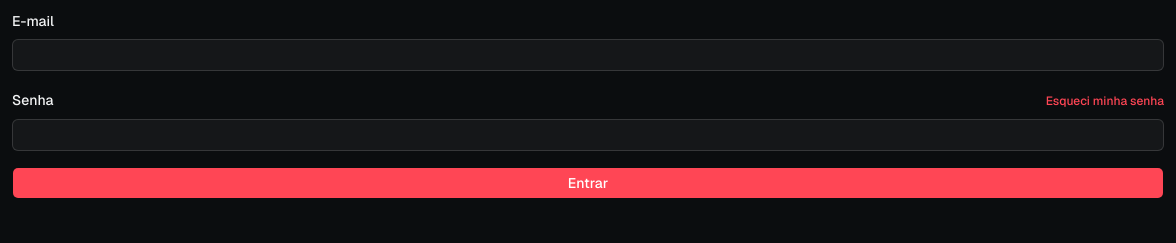
Test: SignInForm › mostra 'E-mail inválido.' para um e-mail mal formatado
The width and height of the screenshot is (1176, 243).
Type "não-é-um-email" into the field labelled "E-mail" at (588, 55), box 12,39 -> 1164,71
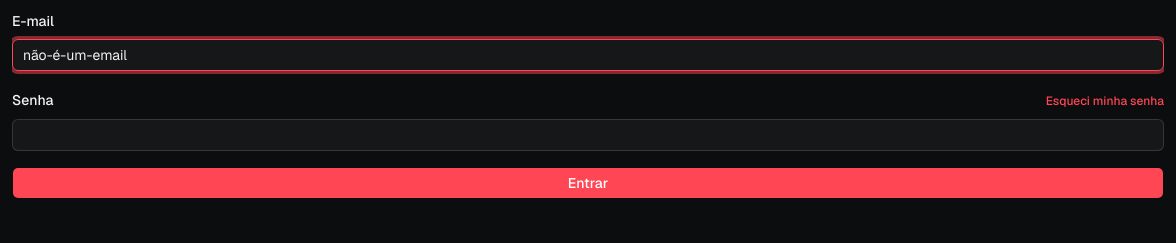
Type "qualquer-senha" into the password field labelled "Senha" at (588, 134), box 12,118 -> 1164,150
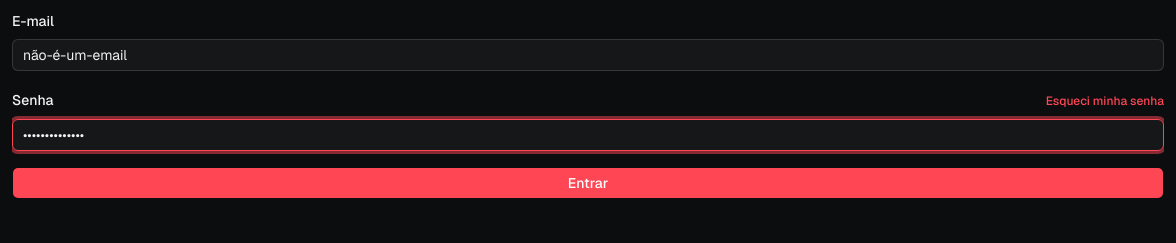
Click the button "Entrar" at (588, 182), box 12,166 -> 1164,198
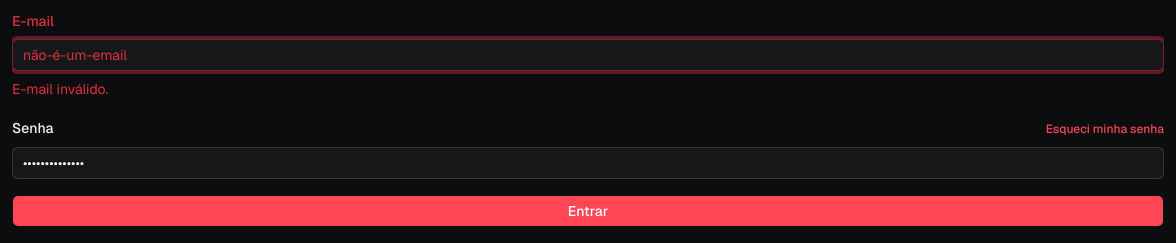
Expected: the text "E-mail inválido." is shown, 12,80 -> 108,98
